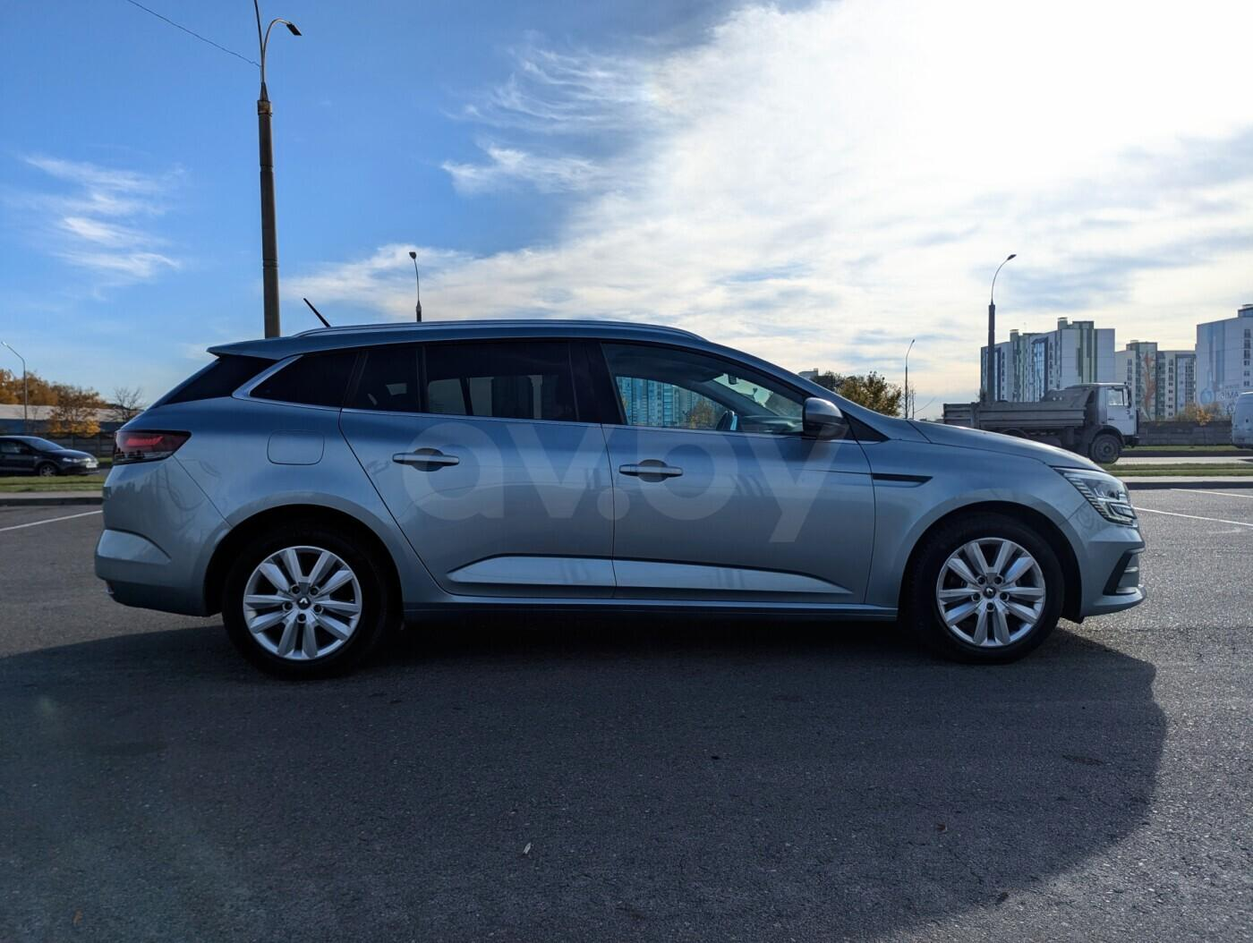Megane_2020: (91, 313, 1144, 688)
